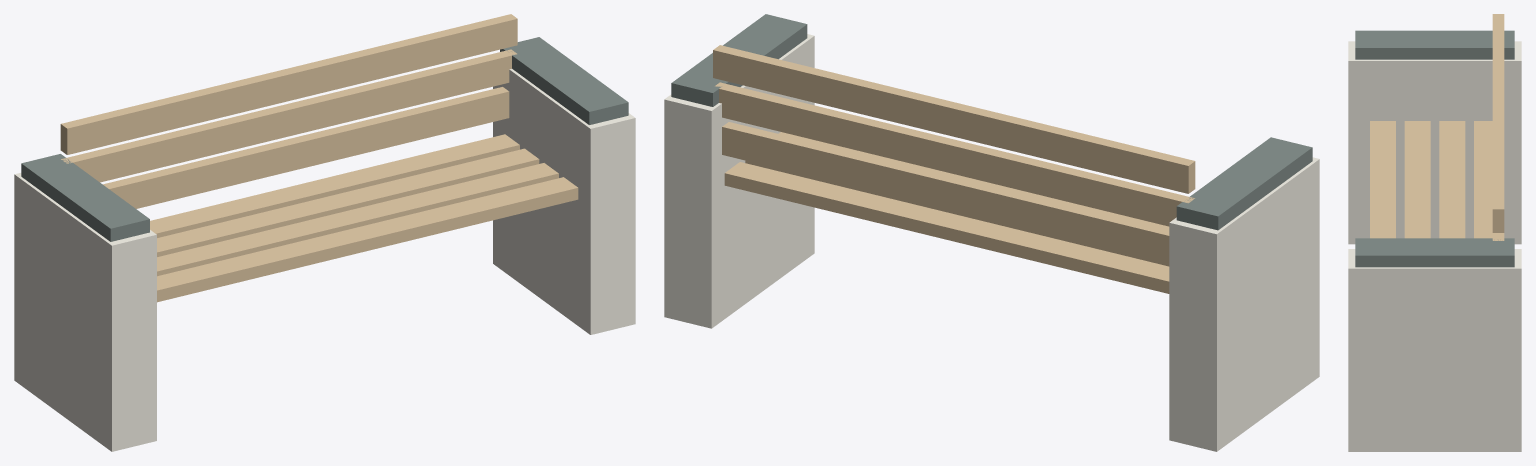
File: ParkBench.fbx
3 renders of one model, left to right at view 1: azimuth 30°, elevation 25°; view 2: azimuth 150°, elevation 25°; view 3: azimuth 270°, elevation 25°, orthographic. The views are drawn at different scales.
Visible parts, largest first — view 1: Bench_Leg_-0.85, Bench_Leg_0.85, Back_Slat_2, Back_Slat_1, Back_Slat_0, Seat_Slat_0, Seat_Slat_1, Seat_Slat_2, Seat_Slat_3, Bench_Armrest_-0.85, Bench_Armrest_0.85; view 2: Bench_Leg_-0.85, Bench_Leg_0.85, Back_Slat_2, Back_Slat_1, Back_Slat_0, Seat_Slat_3, Bench_Armrest_-0.85, Bench_Armrest_0.85, Seat_Slat_2, Seat_Slat_1; view 3: Bench_Leg_0.85, Bench_Leg_-0.85, Bench_Armrest_0.85, Bench_Armrest_-0.85, Seat_Slat_1, Seat_Slat_2, Seat_Slat_0, Back_Slat_2, Seat_Slat_3.
Boxes of the visible parts, <box> form: Bench_Leg_-0.85: <box>14,173,156,451</box>; Bench_Leg_0.85: <box>493,69,635,334</box>; Back_Slat_2: <box>60,14,517,154</box>; Back_Slat_1: <box>61,49,516,182</box>; Back_Slat_0: <box>103,87,509,208</box>; Seat_Slat_0: <box>157,177,578,302</box>; Seat_Slat_1: <box>157,163,558,276</box>; Seat_Slat_2: <box>157,148,539,256</box>; Seat_Slat_3: <box>150,134,519,237</box>; Bench_Armrest_-0.85: <box>21,154,149,241</box>; Bench_Armrest_0.85: <box>500,37,628,124</box>; Bench_Leg_-0.85: <box>1169,157,1319,451</box>; Bench_Leg_0.85: <box>664,34,814,328</box>; Back_Slat_2: <box>713,45,1195,193</box>; Back_Slat_1: <box>715,82,1194,226</box>; Back_Slat_0: <box>722,122,1169,263</box>; Seat_Slat_3: <box>724,162,1169,293</box>; Bench_Armrest_-0.85: <box>1176,137,1312,230</box>; Bench_Armrest_0.85: <box>671,14,807,106</box>; Seat_Slat_2: <box>745,160,1169,266</box>; Seat_Slat_1: <box>778,132,1169,228</box>; Bench_Leg_0.85: <box>1348,249,1521,451</box>; Bench_Leg_-0.85: <box>1348,41,1521,244</box>; Bench_Armrest_0.85: <box>1355,238,1514,267</box>; Bench_Armrest_-0.85: <box>1355,30,1514,59</box>; Seat_Slat_1: <box>1404,121,1430,238</box>; Seat_Slat_2: <box>1439,121,1465,238</box>; Seat_Slat_0: <box>1370,121,1395,238</box>; Back_Slat_2: <box>1492,14,1504,232</box>; Seat_Slat_3: <box>1474,121,1492,238</box>.
Size of the model in its own units: 186 by 86.5 by 60.
